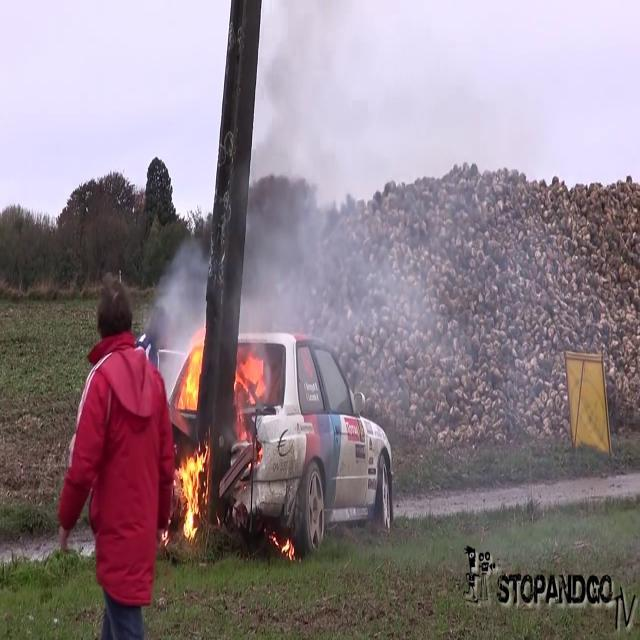Fire: (177, 348, 272, 416), (175, 424, 212, 542), (173, 444, 213, 544)
Smoke: (153, 152, 384, 362)
